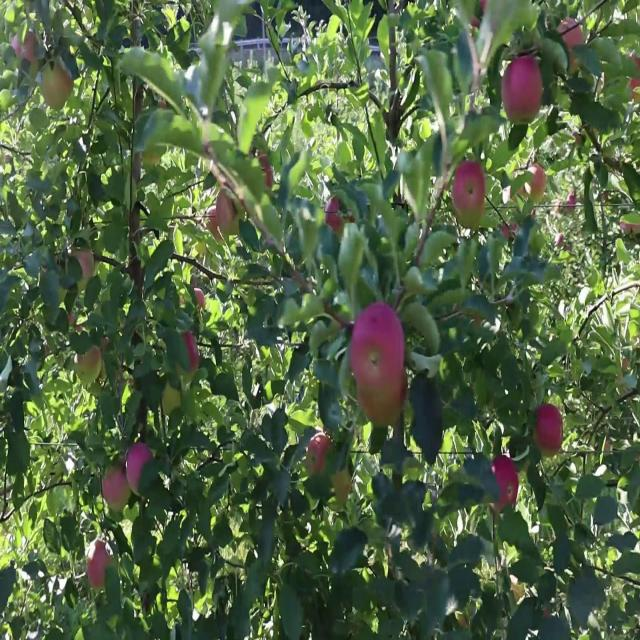apple: (352, 305, 408, 398), (504, 56, 544, 124), (356, 383, 404, 432), (452, 163, 488, 220), (40, 63, 74, 114), (492, 455, 520, 512), (128, 440, 154, 494), (536, 405, 564, 455), (104, 462, 130, 512), (88, 540, 112, 590), (216, 191, 241, 235), (560, 14, 586, 55), (308, 433, 333, 475), (12, 28, 40, 64), (524, 163, 548, 203), (180, 334, 200, 380), (324, 199, 347, 236), (72, 248, 96, 283), (20, 28, 42, 64), (164, 383, 184, 418), (256, 156, 275, 188), (80, 348, 103, 372), (628, 56, 640, 101), (208, 206, 223, 240), (192, 284, 207, 311)
